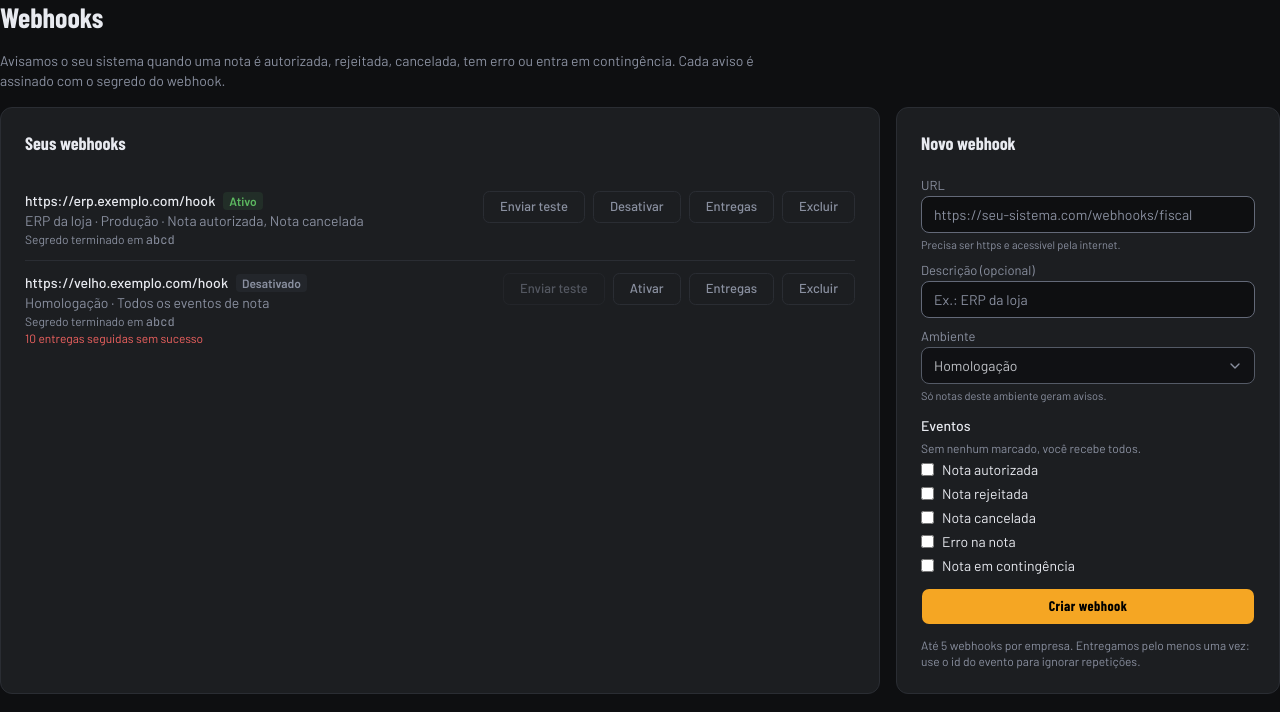
Scenario: webhooks › erro de limite e de módulo fora do plano aparecem em alerta
The width and height of the screenshot is (1280, 712).
Type "https://x.com/h" into the field labelled "URL" at (1088,214), box [921,196,1255,232]
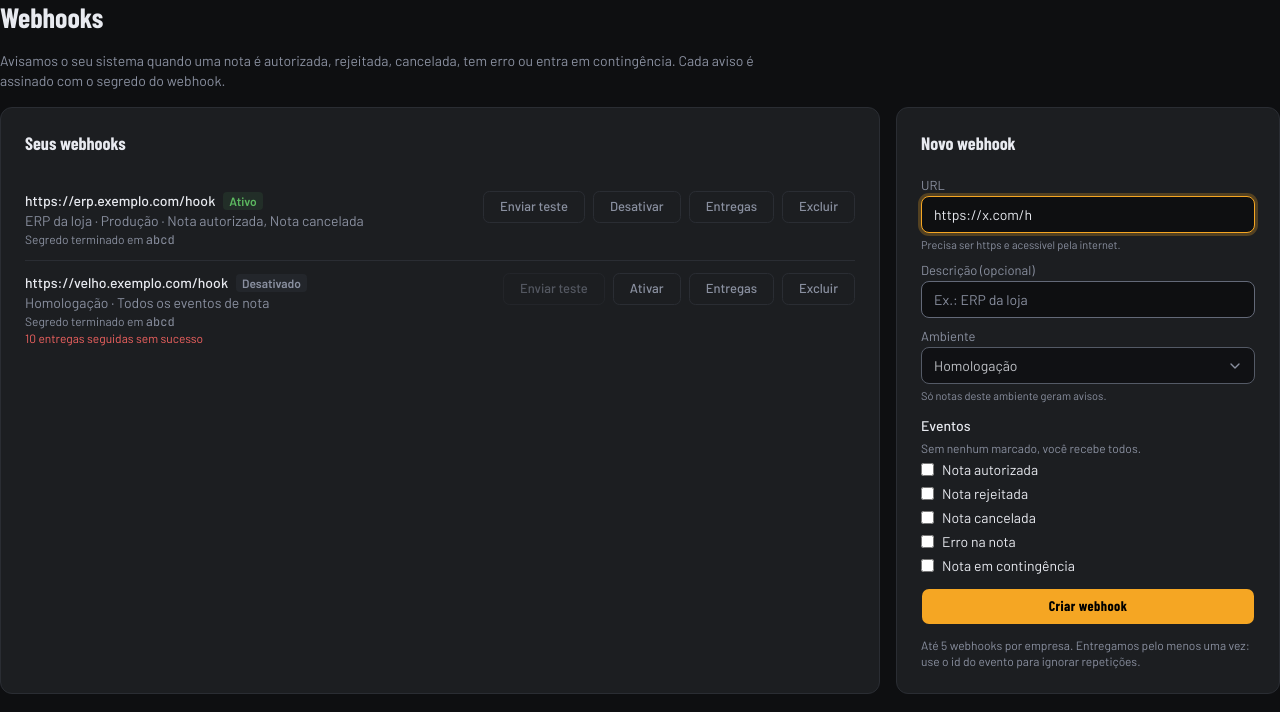
Click the button "Criar webhook" at (1088,606), box [921,588,1255,625]
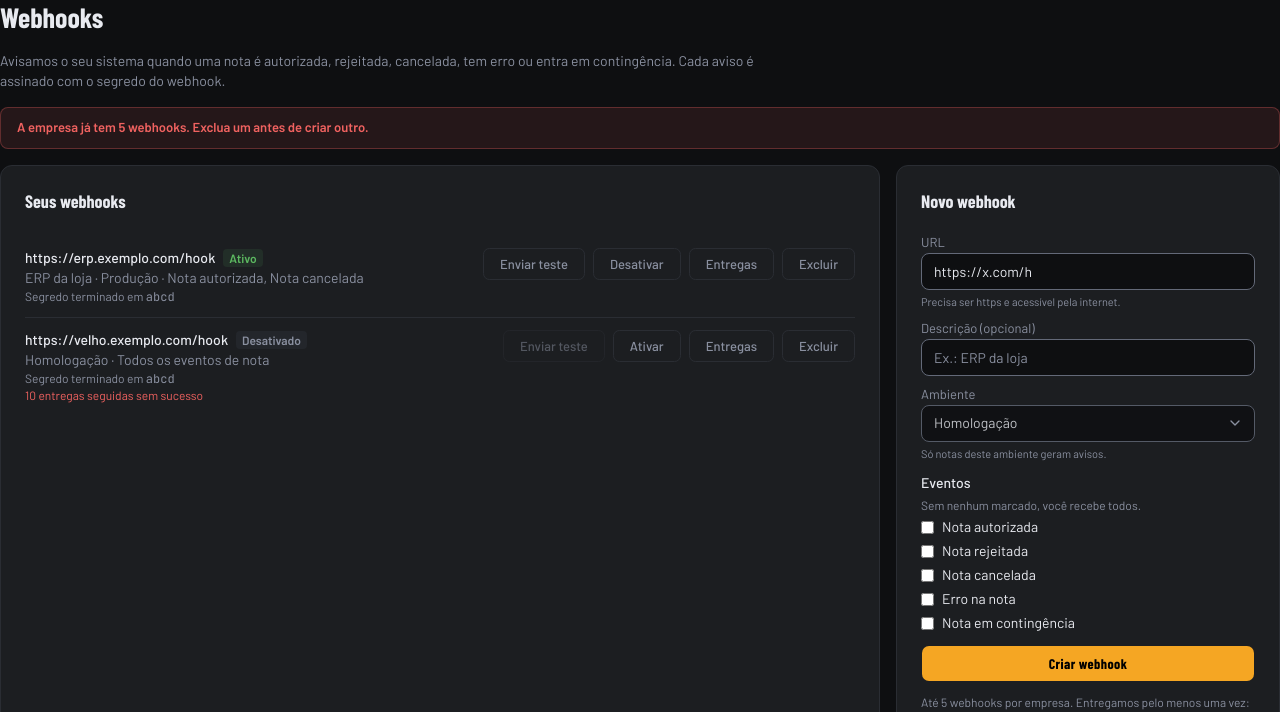
Expected: the message shows "já tem 5 webhooks", [17,119,369,135]
Click the button "Criar webhook" at (1088,664), box [921,645,1255,682]
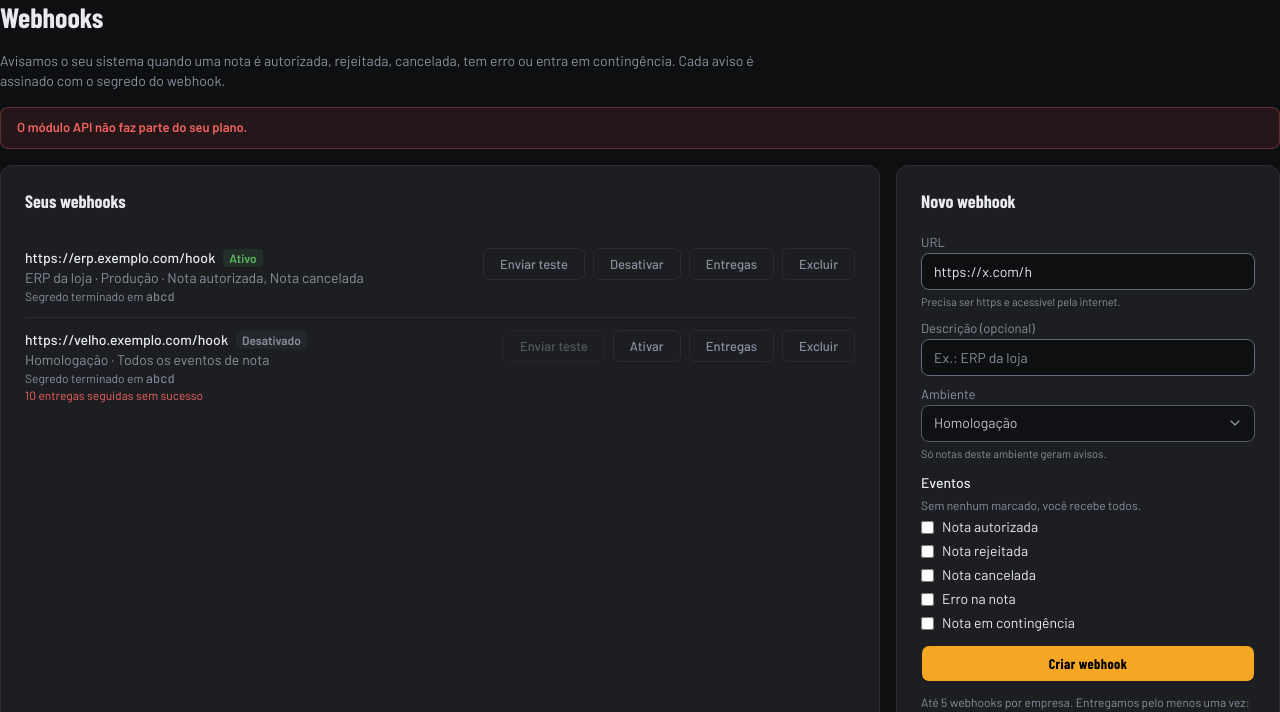
Expected: the message shows "não faz parte do seu plano", [17,119,247,135]
